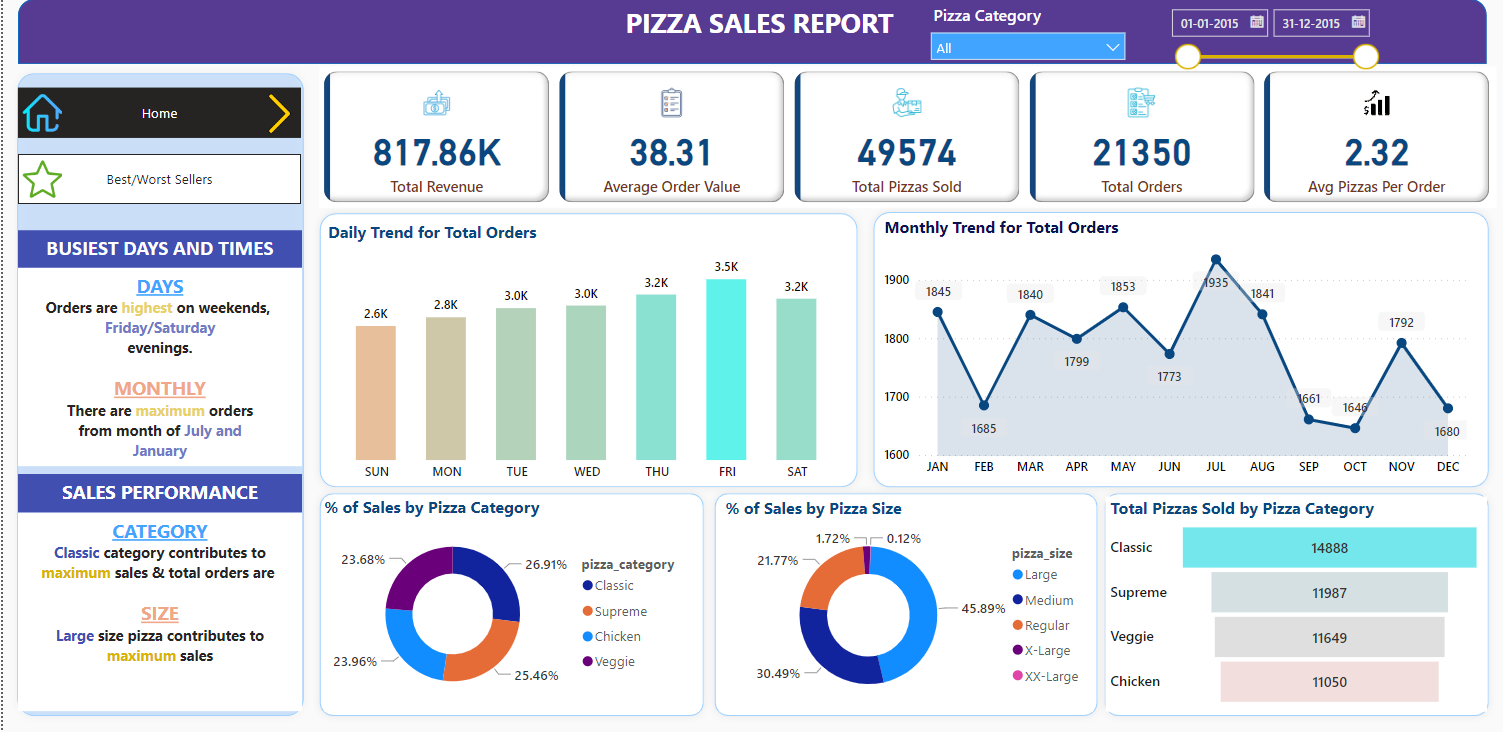

The dashboard page shown, as its layout file describes it:
{"tool":"powerbi","page":{"name":"Home","canvas":[1500,800],"ordinal":0},"visuals":[{"type":"cardVisual","fields":{"Data":["pizza_sales.Total Revenue","pizza_sales.Average Order Value","pizza_sales.Total Pizzas Sold","pizza_sales.Total Orders","pizza_sales.Avg Pizzas Per Order"]},"box":[316.2,67.5,1177.5,141.2],"z":0},{"type":"shape","box":[15,0,1468.8,65],"z":1000},{"type":"textbox","box":[617.5,0,310,53.8],"z":2000},{"type":"shape","box":[308.8,206.2,553.8,290],"z":3000},{"type":"columnChart","title":"Daily Trend for Total Orders","fields":{"Category":["pizza_sales.Order Day"],"Y":["pizza_sales.Total Orders"]},"box":[320,221.2,528.8,270],"z":4000},{"type":"shape","box":[862.5,205,631.2,291.2],"z":5000},{"type":"areaChart","title":"Monthly Trend for Total Orders","fields":{"Category":["pizza_sales.Order Month"],"Y":["pizza_sales.Total Orders"]},"box":[876.2,216.2,592.5,270],"z":6000},{"type":"shape","box":[308.8,486.2,400,238.8],"z":7000},{"type":"shape","box":[1093.8,486.2,400,238.8],"z":8000},{"type":"shape","box":[703.8,486.2,398.8,238.8],"z":9000},{"type":"donutChart","title":"% of Sales by Pizza Category","fields":{"Category":["pizza_sales.pizza_category"],"Y":["pizza_sales.Total Revenue"]},"box":[316.2,496.2,376.2,216.2],"z":10000},{"type":"donutChart","title":"% of Sales by Pizza Size","fields":{"Category":["pizza_sales.pizza_size"],"Y":["pizza_sales.Total Revenue"]},"box":[717.5,497.5,376.2,216.2],"z":11000},{"type":"shape","box":[6.2,66.2,302.5,658.8],"z":12000},{"type":"funnel","title":"Total Pizzas Sold by Pizza Category","fields":{"Y":["pizza_sales.Total Pizzas Sold"],"Category":["pizza_sales.pizza_category"]},"box":[1102.5,497.5,381.2,215],"z":13000},{"type":"textbox","box":[15,231.2,283.8,38.8],"z":14000},{"type":"textbox","box":[15,268.8,283.8,198.8],"z":15000},{"type":"textbox","box":[15,513.8,283.8,198.8],"z":15001},{"type":"textbox","box":[15,475,283.8,38.8],"z":15002},{"type":"slicer","fields":{"Values":["pizza_sales.pizza_category"]},"box":[917.5,0,215,65],"z":15003},{"type":"slicer","fields":{"Values":["pizza_sales.order_date"]},"box":[1156.2,0,227.5,76.2],"z":15004},{"type":"pageNavigator","box":[15,88.8,283.8,50],"z":15005},{"type":"pageNavigator","box":[15,155,283.8,50],"z":15006},{"type":"image","box":[236.2,90,80,48.8],"z":15007},{"type":"image","box":[15,86.2,48.8,55],"z":15008},{"type":"image","box":[15,152.5,48.8,55],"z":15009}]}

Visuals, with their boxes on the page's 1500x800 design canvas (x1, y1, x2, y2). These are canvas units, not pixel positions in the 1503x732 screenshot, which may show the page scaled, cropped or inside an application window:
cardVisual - pizza_sales.Total Revenue x pizza_sales.Average Order Value: <region>316, 68, 1494, 209</region>
shape: <region>15, 0, 1484, 65</region>
textbox: <region>618, 0, 928, 54</region>
shape: <region>309, 206, 863, 496</region>
"Daily Trend for Total Orders" columnChart: <region>320, 221, 849, 491</region>
shape: <region>862, 205, 1494, 496</region>
"Monthly Trend for Total Orders" areaChart: <region>876, 216, 1469, 486</region>
shape: <region>309, 486, 709, 725</region>
shape: <region>1094, 486, 1494, 725</region>
shape: <region>704, 486, 1103, 725</region>
"% of Sales by Pizza Category" donutChart: <region>316, 496, 692, 712</region>
"% of Sales by Pizza Size" donutChart: <region>718, 498, 1094, 714</region>
shape: <region>6, 66, 309, 725</region>
"Total Pizzas Sold by Pizza Category" funnel: <region>1102, 498, 1484, 712</region>
textbox: <region>15, 231, 299, 270</region>
textbox: <region>15, 269, 299, 468</region>
textbox: <region>15, 514, 299, 713</region>
textbox: <region>15, 475, 299, 514</region>
slicer - pizza_sales.pizza_category: <region>918, 0, 1132, 65</region>
slicer - pizza_sales.order_date: <region>1156, 0, 1384, 76</region>
pageNavigator: <region>15, 89, 299, 139</region>
pageNavigator: <region>15, 155, 299, 205</region>
image: <region>236, 90, 316, 139</region>
image: <region>15, 86, 64, 141</region>
image: <region>15, 152, 64, 208</region>
